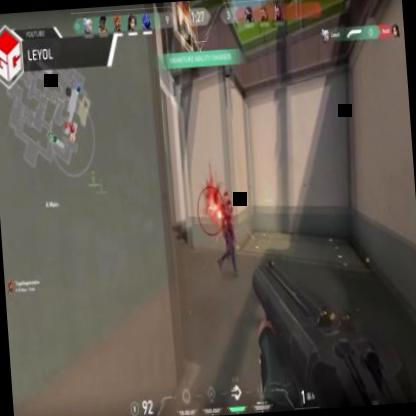enemy: (214, 190, 238, 275)
enemy_head: (224, 192, 230, 206)
